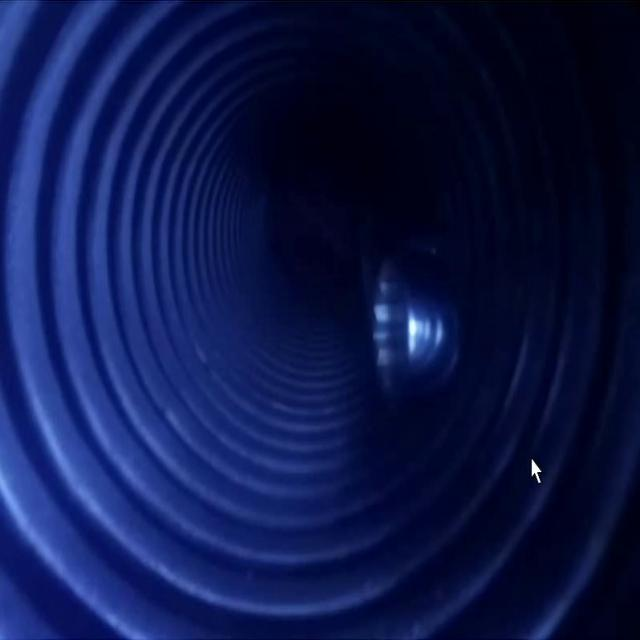metal piece: (373, 249, 462, 396)
